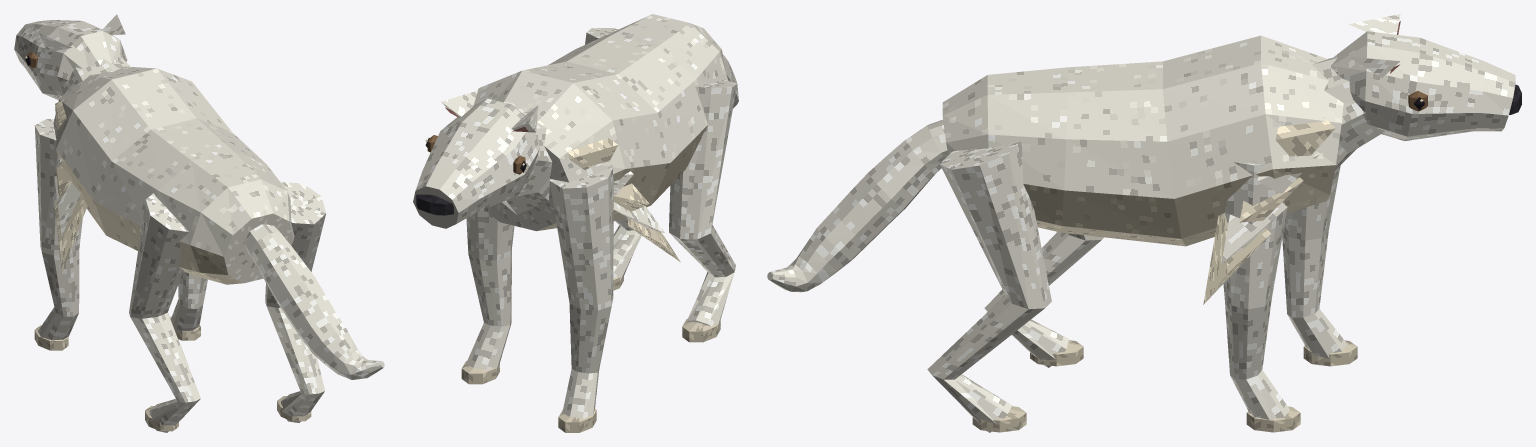
The model's file is mon_dog_gpyrenees.glb.
3 views of the same model, side by side, from view 1: azimuth 30°, elevation 25°; view 2: azimuth 150°, elevation 25°; view 3: azimuth 270°, elevation 25° (orthographic). The views are drawn at different scales.
Visible parts, largest first — view 1: closed_body; view 2: closed_body; view 3: closed_body.
Boxes of the visible parts, x1,y1,x2,y2 form: closed_body: (14, 14, 384, 432); closed_body: (413, 14, 738, 432); closed_body: (767, 14, 1521, 432).
Bounding box in the file's own units: 0.5936 × 0.8639 × 1.64.
1 material, 1 textured.
